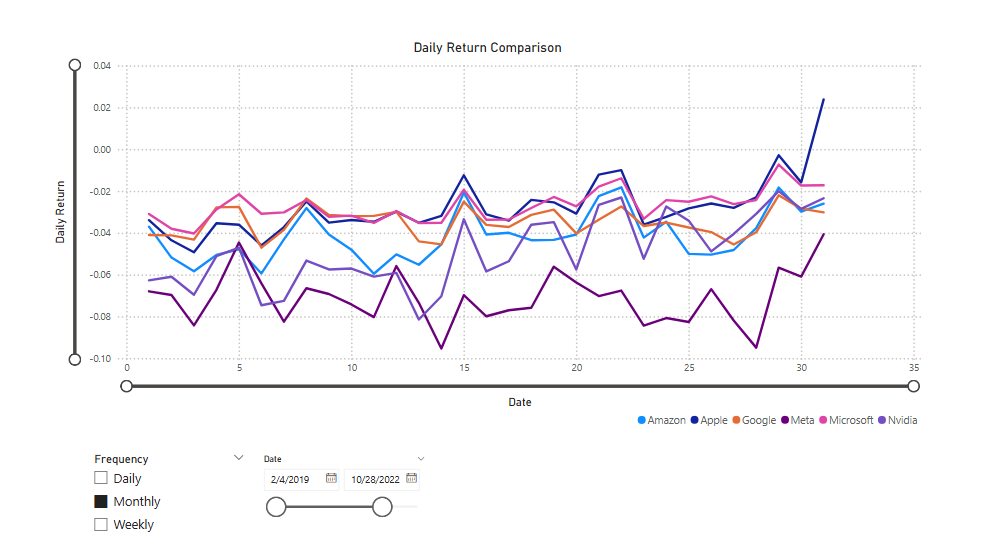

The page's visual inventory and layout, read from the dashboard file:
{"tool":"powerbi","page":{"name":"Daily Return","canvas":[1280,720],"ordinal":0},"visuals":[{"type":"lineChart","title":"Daily Return Comparison","fields":{"Category":["Stock Market Dataset.Date.Variation.Date Hierarchy.Day"],"Y":["Stock Market Dataset.SelectedReturnAmazon","Stock Market Dataset.SelectedReturnApple","Stock Market Dataset.SelectedReturnGoogle","Stock Market Dataset.SelectedReturnMeta","Stock Market Dataset.SelectedReturnMicrosoft","Stock Market Dataset.SelectedReturnNvidia"]},"box":[88.8,64.3,1103.6,498.9],"z":0},{"type":"slicer","fields":{"Values":["ReturnFrequency.Frequency"]},"box":[132.3,580.2,213.5,139.8],"z":1000},{"type":"slicer","fields":{"Values":["Stock Market Dataset.Date"]},"box":[345.8,582.1,228.7,138],"z":2000}]}

Visuals, with their boxes in screenshot pixels (x1, y1, x2, y2), scaled from the page's 1280x720 canvas onto the 982x544 screenshot:
"Daily Return Comparison" lineChart: 68,49,915,426
slicer - ReturnFrequency.Frequency: 101,438,265,543
slicer - Stock Market Dataset.Date: 265,440,441,543
